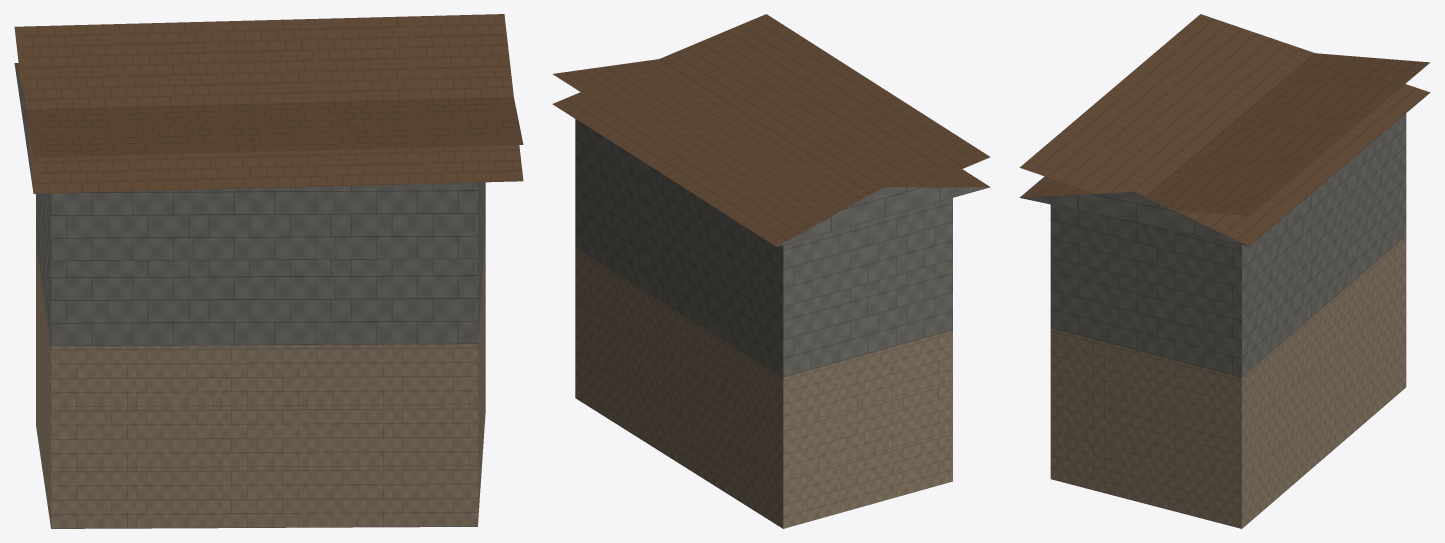
File: bld_c-29_-23_758.gltf
3 renders of one model, left to right at view 1: azimuth 30°, elevation 25°; view 2: azimuth 150°, elevation 25°; view 3: azimuth 270°, elevation 25°, orthographic. The views are drawn at different scales.
Parts seen in each view (by area): view 1: bld_c-29_-23_758; view 2: bld_c-29_-23_758; view 3: bld_c-29_-23_758.
Boxes of the visible parts, box(x1,y1,x2,y2) form: bld_c-29_-23_758: box(14, 14, 523, 528); bld_c-29_-23_758: box(552, 14, 990, 528); bld_c-29_-23_758: box(1019, 14, 1430, 528).
Bounding box in the file's own units: 14.4 × 10.7 × 12.38.
4 materials, 4 textured.
